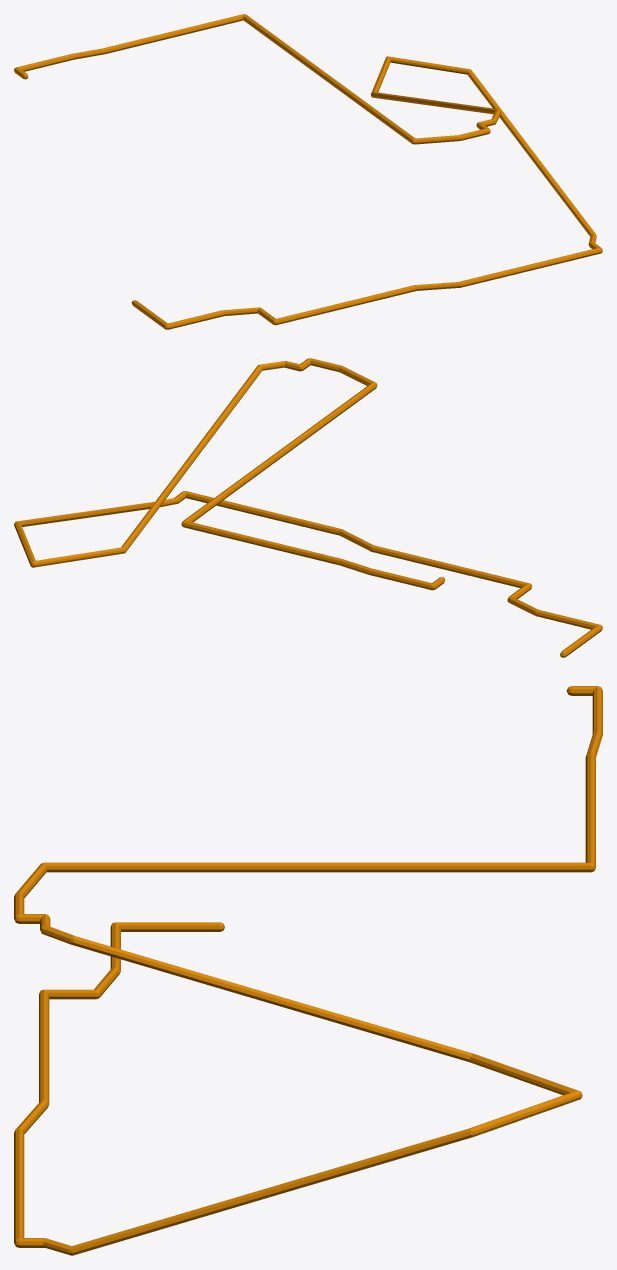
The picture shows the model from 3 angles, top to bottom: view 1: azimuth 30°, elevation 25°; view 2: azimuth 150°, elevation 25°; view 3: azimuth 270°, elevation 25°; orthographic projection. The views are drawn at different scales.
Size of the model in its own units: 1492 by 520 by 1131.
